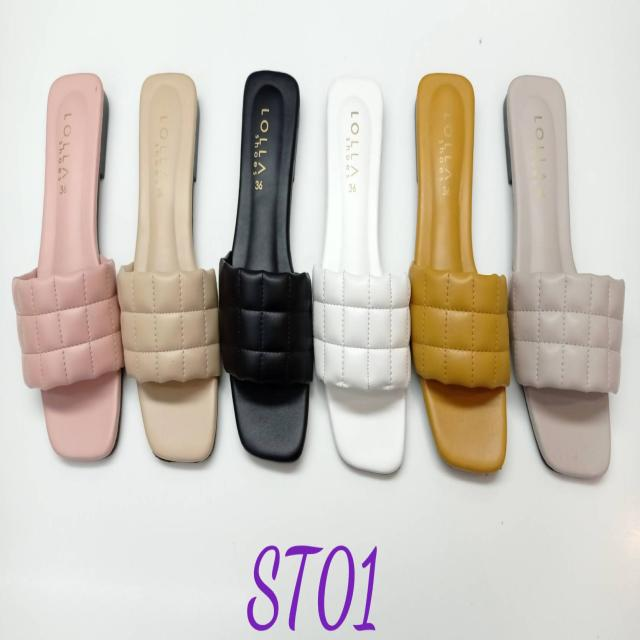black: (223, 70, 312, 466)
cream: (126, 73, 220, 457)
kakee: (509, 84, 613, 486)
kapi: (38, 76, 122, 458)
tan: (411, 75, 508, 472)
white: (318, 82, 406, 476)
